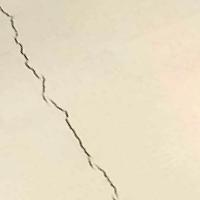crack: (0, 1, 119, 199)
